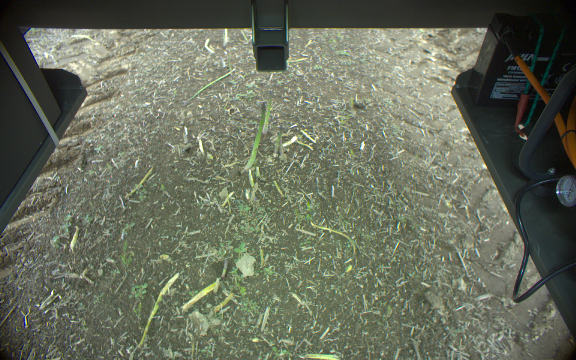aspa: (241, 100, 267, 172), (273, 123, 286, 164)
